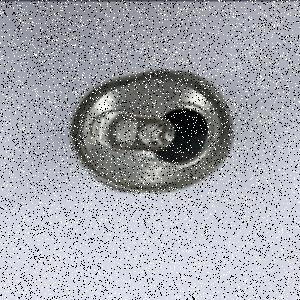Can: (68, 69, 236, 195)
